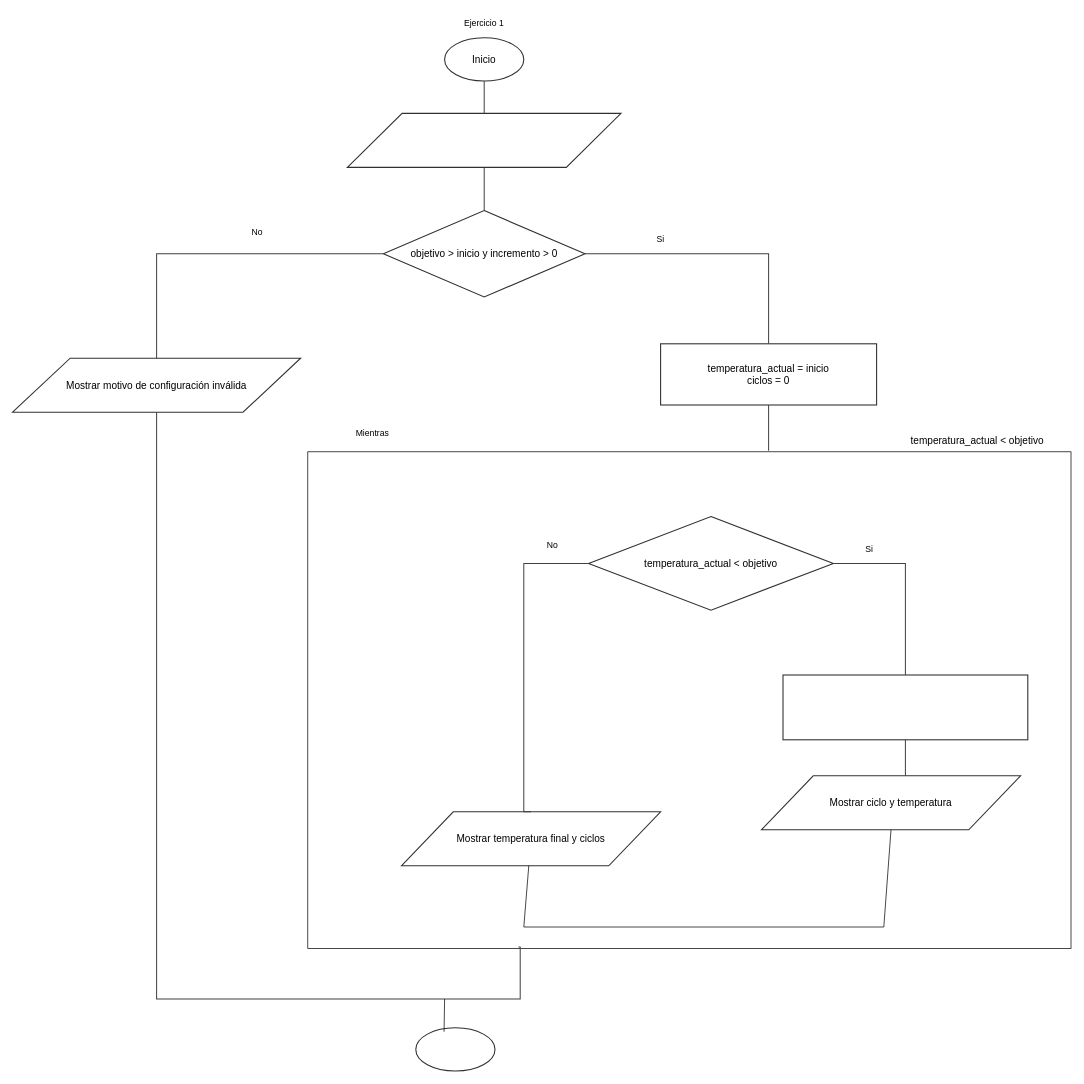
This 1084x1084 diagram has some shape labels left out. Each missing label, with the centre of its shape:
"Fin" goes at [455,1049].
"Leer inicio, objetivo, incremento" goes at [484,140].
"temperatura_actual = temperatura_actual + incremento<br>ciclos = ciclos + 1" goes at [905,707].
